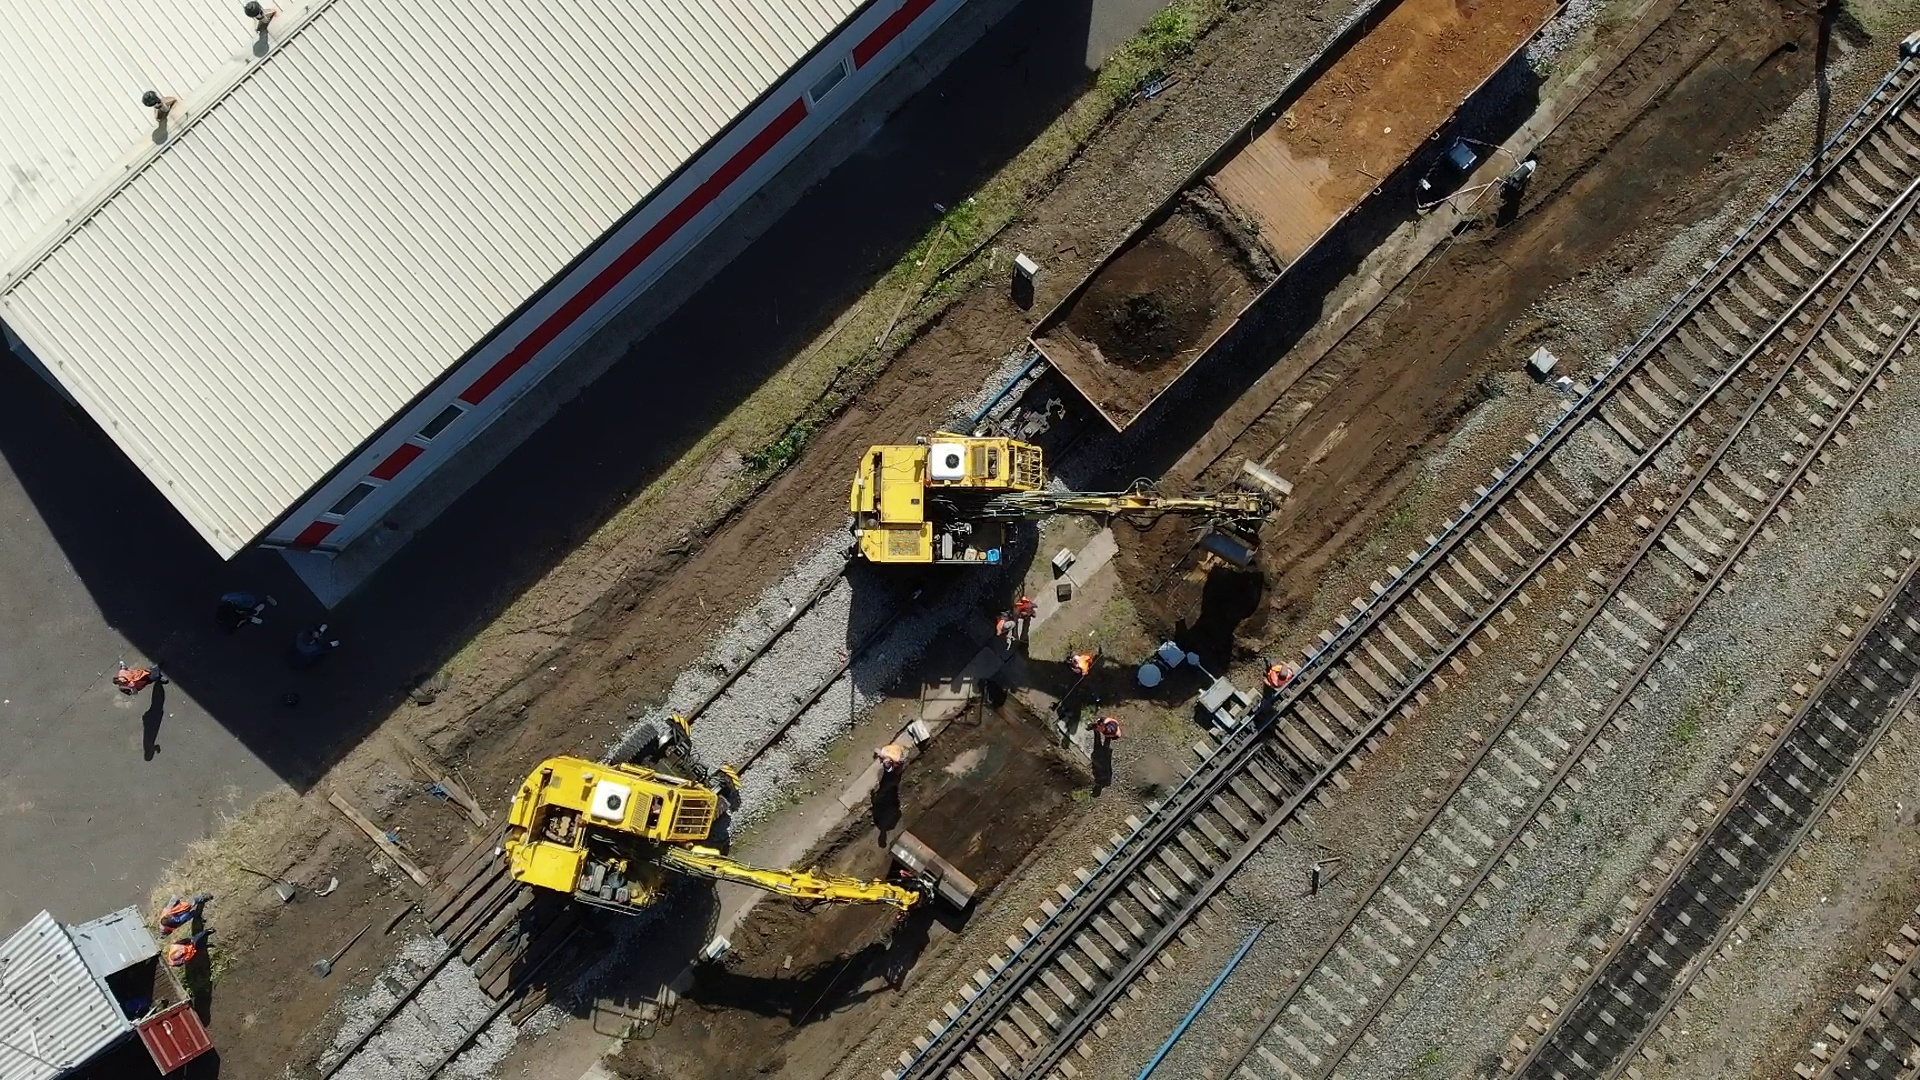kjtv: (500, 724, 810, 910), (860, 426, 1142, 575)
